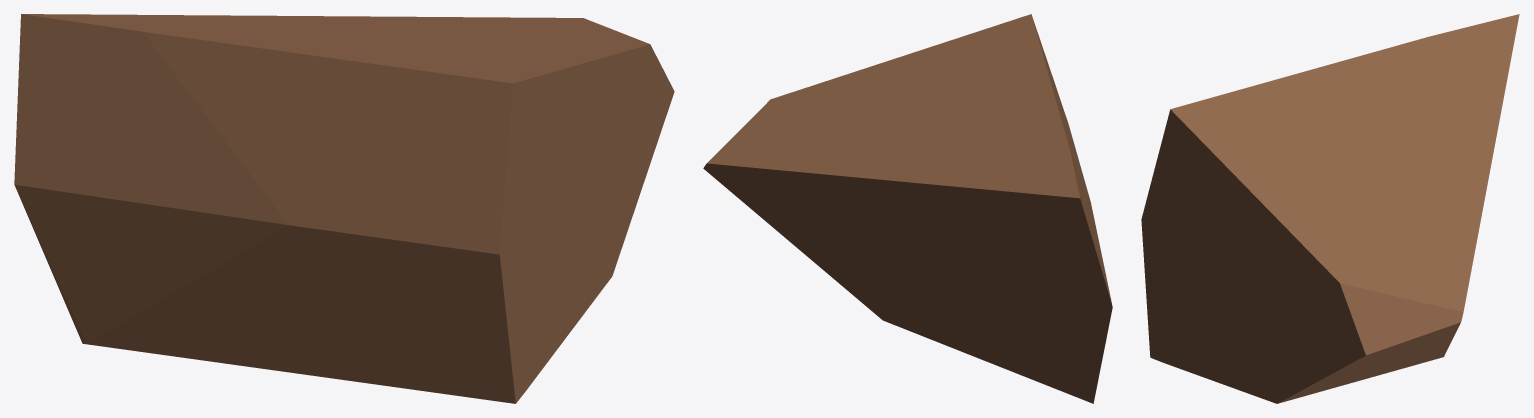
Rendered from WoodCellCube_003_cell_033.fbx.
The picture shows the model from 3 angles, left to right: view 1: azimuth 30°, elevation 25°; view 2: azimuth 150°, elevation 25°; view 3: azimuth 270°, elevation 25°; orthographic projection. The views are drawn at different scales.
Parts seen in each view (by area): view 1: WoodCellCube_003_cell_033; view 2: WoodCellCube_003_cell_033; view 3: WoodCellCube_003_cell_033.
Boxes of the visible parts, x1,y1,x2,y2 form: WoodCellCube_003_cell_033: (14, 14, 674, 403); WoodCellCube_003_cell_033: (703, 14, 1112, 403); WoodCellCube_003_cell_033: (1141, 14, 1519, 403).
Bounding box in the file's own units: 0.6065 × 0.47 × 0.8835.
Materials: 1 (1 with a texture image).
